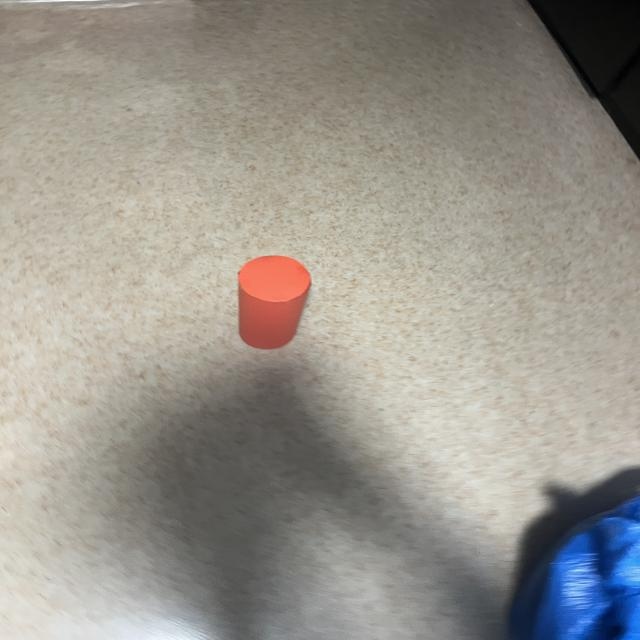przeszkoda: (238, 256, 311, 349)
